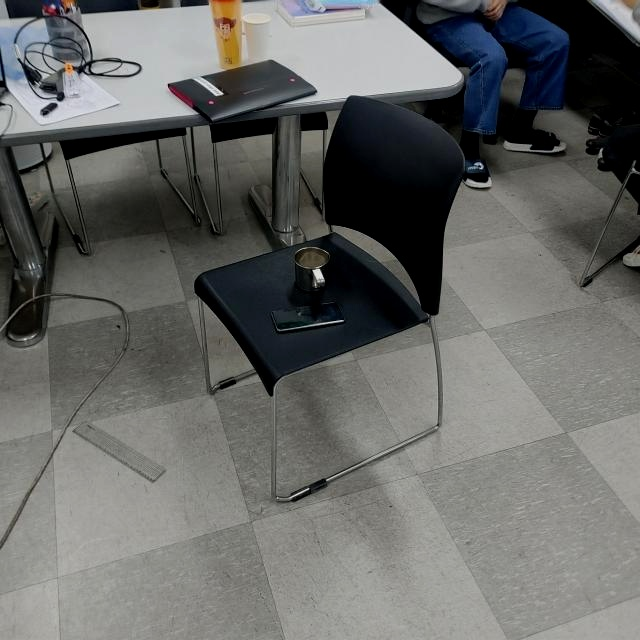cup: (290, 245, 333, 295)
phone: (270, 299, 348, 338)
